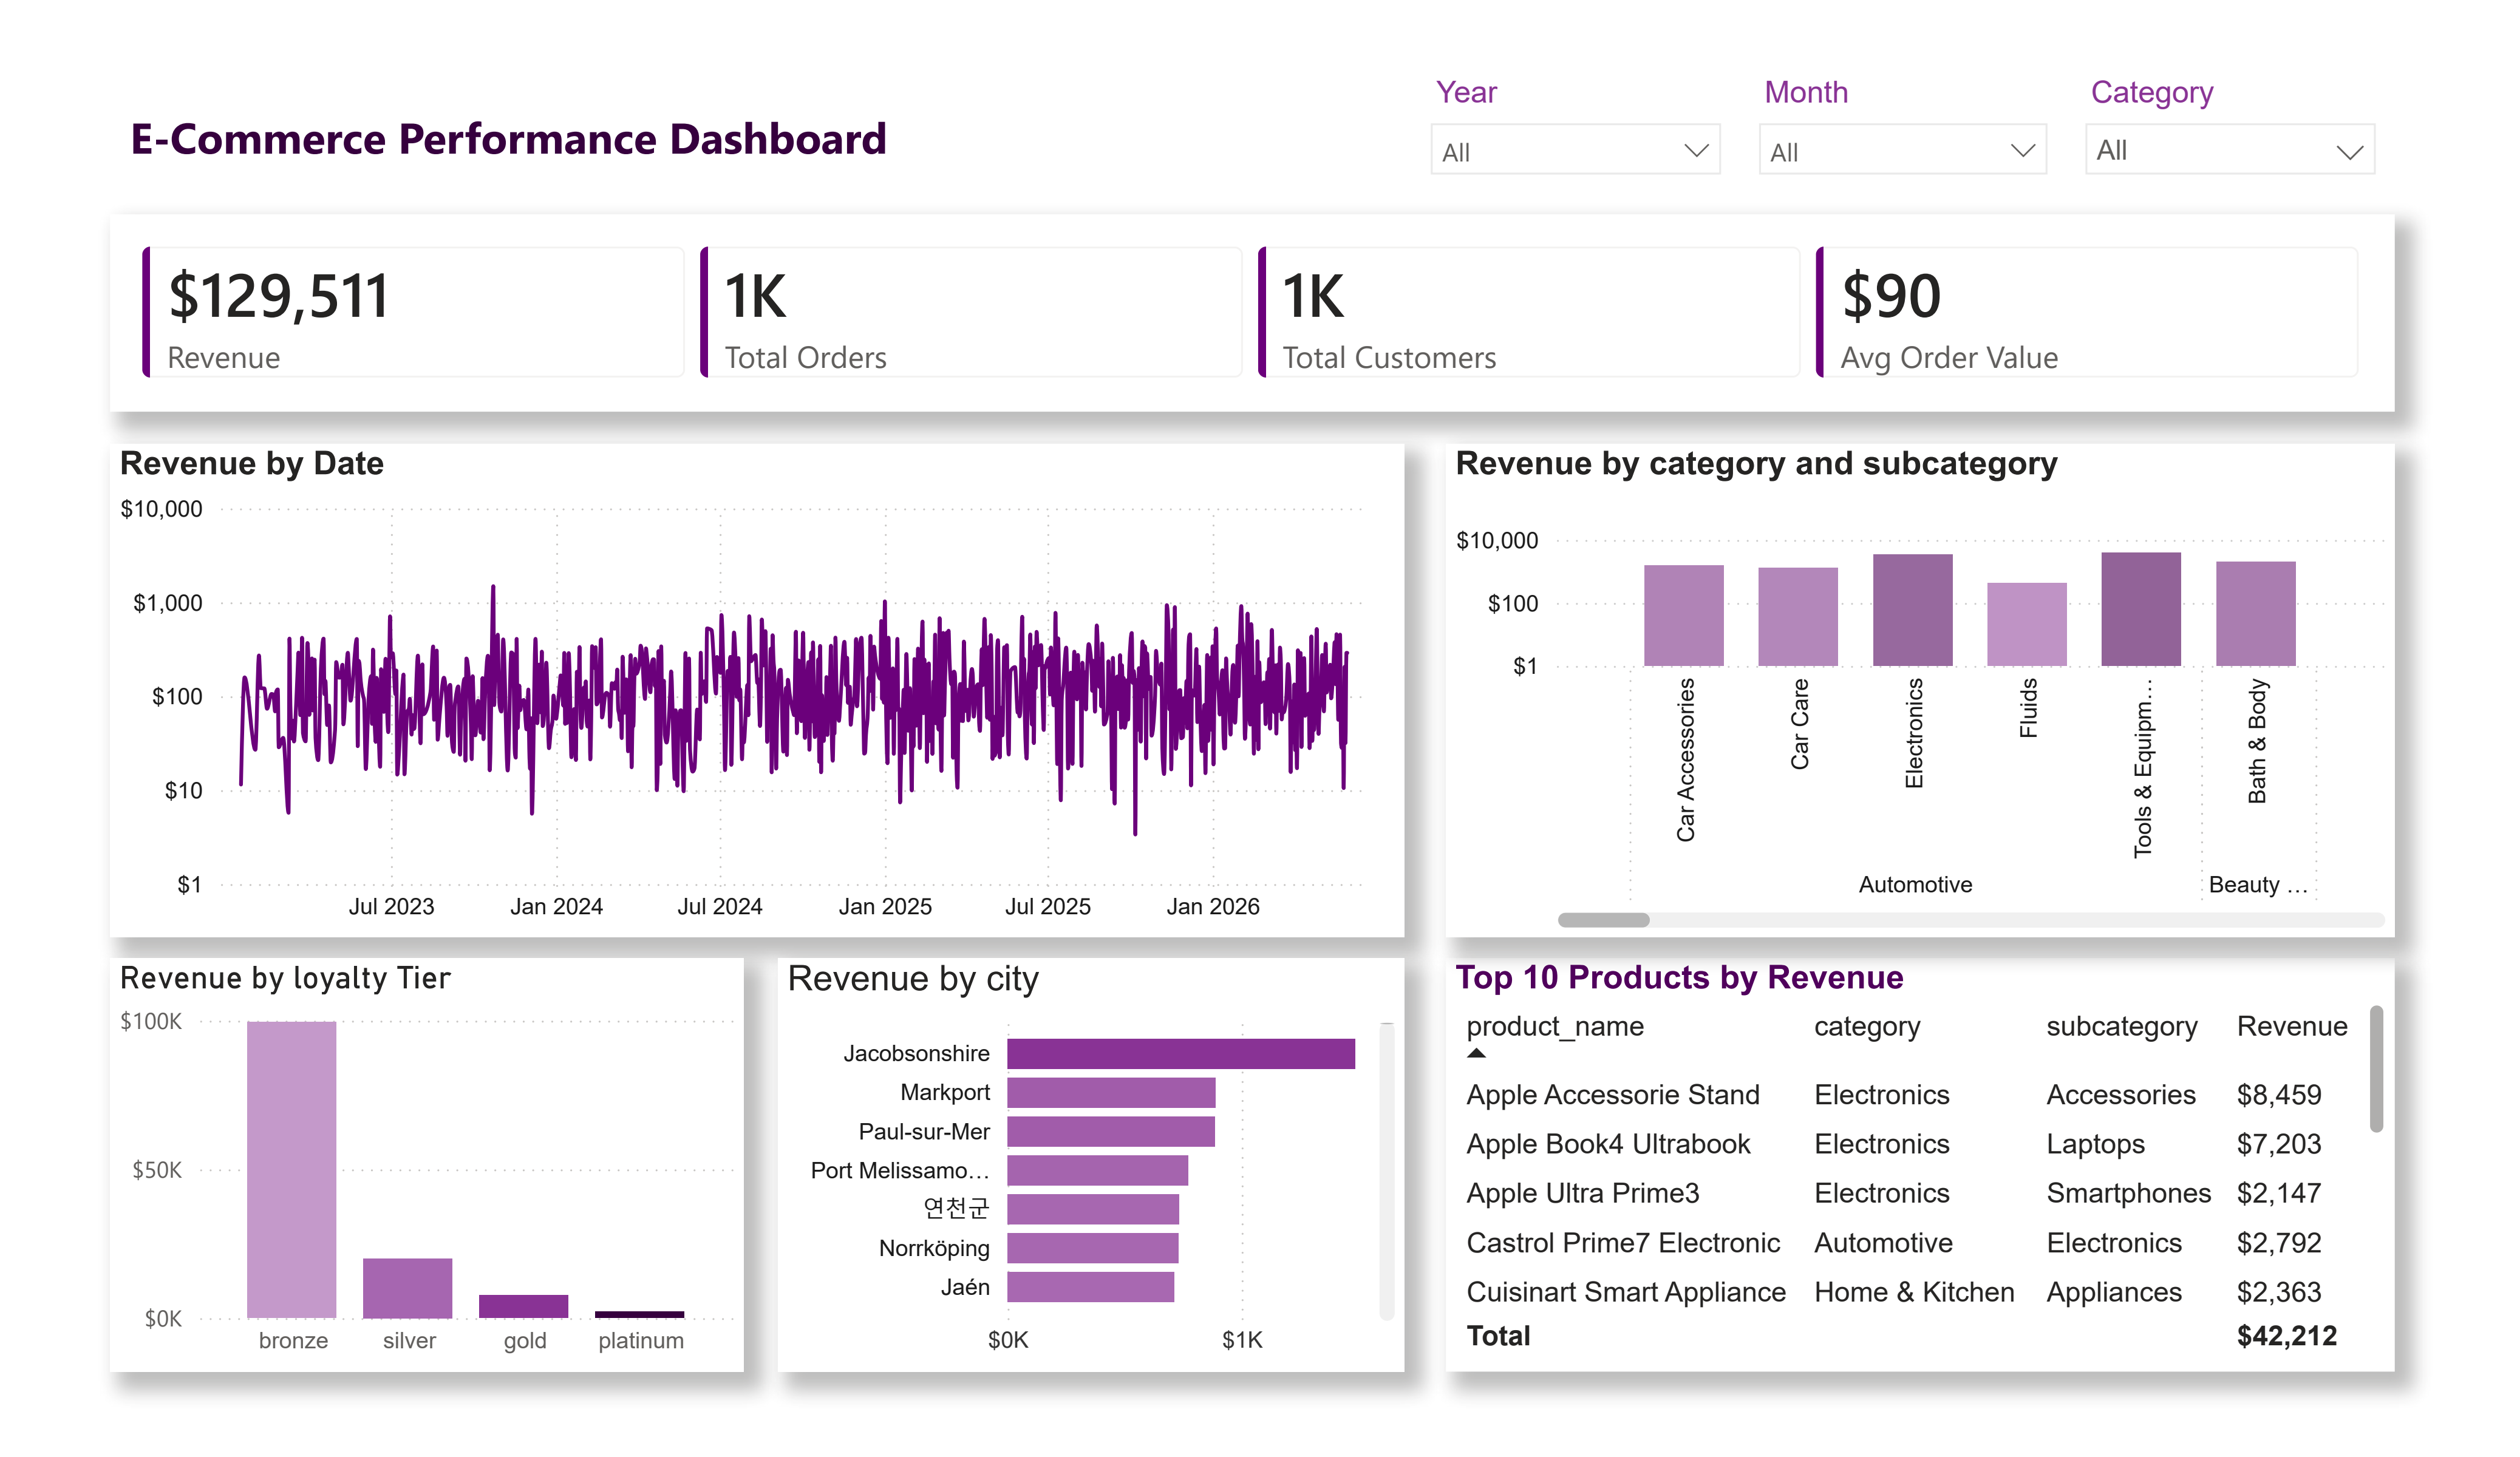

What the dashboard file says about the page in this screenshot:
{"tool":"powerbi","page":{"name":"Page 1","canvas":[1280,720],"ordinal":0},"visuals":[{"type":"cardVisual","fields":{"Data":["Key Measures.Revenue","Key Measures.Total Orders","Key Measures.Total Customers","Key Measures.Avg Order Value"]},"box":[33.8,88.8,1203.8,103.8],"z":0},{"type":"shape","box":[40,17.5,410,61.2],"z":1000},{"type":"lineChart","fields":{"Category":["Data Table.Date"],"Y":["Key Measures.Revenue"]},"box":[33.8,210,682.5,260],"z":2000},{"type":"clusteredColumnChart","fields":{"Category":["Products.category","Products.subcategory"],"Y":["Key Measures.Revenue"]},"box":[738,210,500,260],"z":3000},{"type":"clusteredColumnChart","title":"Revenue by loyalty Tier","fields":{"Category":["Customers.loyalty_tier"],"Y":["Key Measures.Revenue"]},"box":[33.8,481.2,333.8,217.5],"z":4000},{"type":"barChart","fields":{"Category":["Customers.city"],"Y":["Key Measures.Revenue"]},"box":[385.7,481.4,330,217.1],"z":5000},{"type":"tableEx","title":"Top 10 Products by Revenue","fields":{"Values":["Products.product_name","Products.category","Products.subcategory","Key Measures.Revenue"]},"box":[738,481,500,218],"z":6000},{"type":"slicer","fields":{"Values":["Data Table.Date.Variation.Date Hierarchy.Year"]},"box":[720,11.2,172.5,67.5],"z":7000},{"type":"slicer","fields":{"Values":["Data Table.Date.Variation.Date Hierarchy.Month"]},"box":[892.5,11.2,172.5,67.5],"z":8000},{"type":"slicer","fields":{"Values":["Products.category"]},"box":[1065,11.2,172.5,67.5],"z":9000}]}

Visuals, with their boxes on the page's 1280x720 design canvas (x1, y1, x2, y2). These are canvas units, not pixel positions in the 2520x1457 screenshot, which may show the page scaled, cropped or inside an application window:
cardVisual - Key Measures.Revenue x Key Measures.Total Orders: (left=34, top=89, right=1238, bottom=193)
shape: (left=40, top=18, right=450, bottom=79)
lineChart - Data Table.Date x Key Measures.Revenue: (left=34, top=210, right=716, bottom=470)
clusteredColumnChart - Products.category x Products.subcategory: (left=738, top=210, right=1238, bottom=470)
"Revenue by loyalty Tier" clusteredColumnChart: (left=34, top=481, right=368, bottom=699)
barChart - Customers.city x Key Measures.Revenue: (left=386, top=481, right=716, bottom=698)
"Top 10 Products by Revenue" tableEx: (left=738, top=481, right=1238, bottom=699)
slicer - Data Table.Date.Variation.Date Hierarchy.Year: (left=720, top=11, right=892, bottom=79)
slicer - Data Table.Date.Variation.Date Hierarchy.Month: (left=892, top=11, right=1065, bottom=79)
slicer - Products.category: (left=1065, top=11, right=1238, bottom=79)
